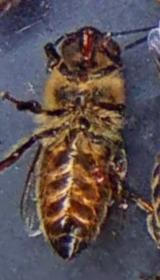varroa_mite: (84, 155, 115, 194)
